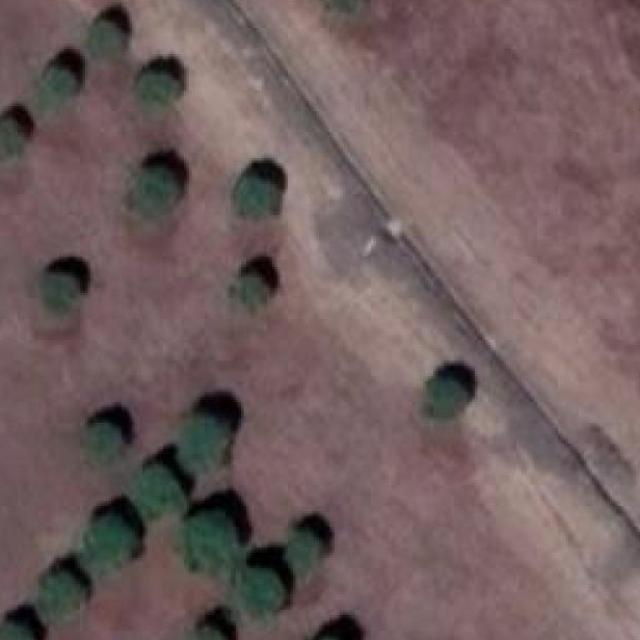Tree: (189, 511, 241, 572), (85, 514, 137, 570), (178, 416, 226, 472), (126, 165, 178, 215), (235, 176, 282, 226), (139, 461, 184, 511), (38, 572, 86, 618), (240, 568, 285, 615), (134, 73, 179, 117), (38, 68, 75, 114), (236, 272, 275, 312), (41, 272, 80, 309), (85, 421, 127, 455), (285, 532, 319, 573), (423, 376, 459, 413), (87, 21, 124, 52), (0, 118, 26, 158), (191, 622, 233, 640), (0, 625, 33, 640), (327, 0, 361, 7), (304, 636, 354, 640)
